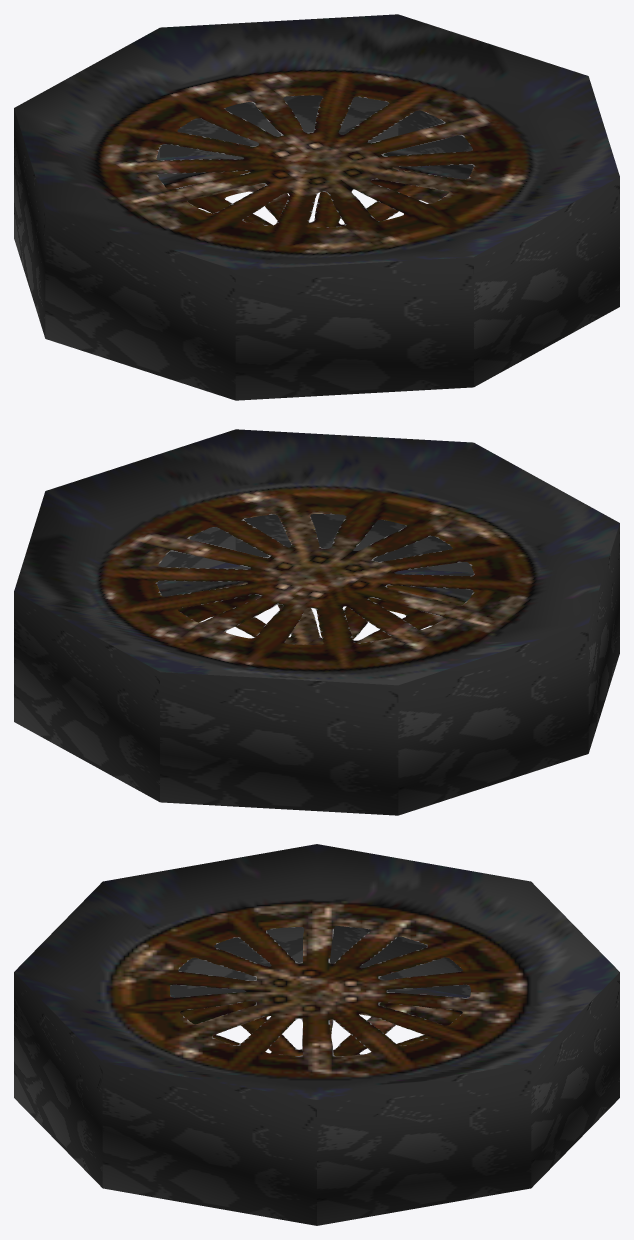
Rendered from wheel_f.fbx.
The picture shows the model from 3 angles, top to bottom: view 1: azimuth 30°, elevation 25°; view 2: azimuth 150°, elevation 25°; view 3: azimuth 270°, elevation 25°; orthographic projection. The views are drawn at different scales.
Visible parts, largest first — view 1: Wheel_1; view 2: Wheel_1; view 3: Wheel_1.
Boxes of the visible parts, x1,y1,x2,y2 form: Wheel_1: [14, 14, 619, 400]; Wheel_1: [14, 429, 619, 815]; Wheel_1: [14, 844, 619, 1225].
Bounding box in the file's own units: 204 × 46.63 × 204.
